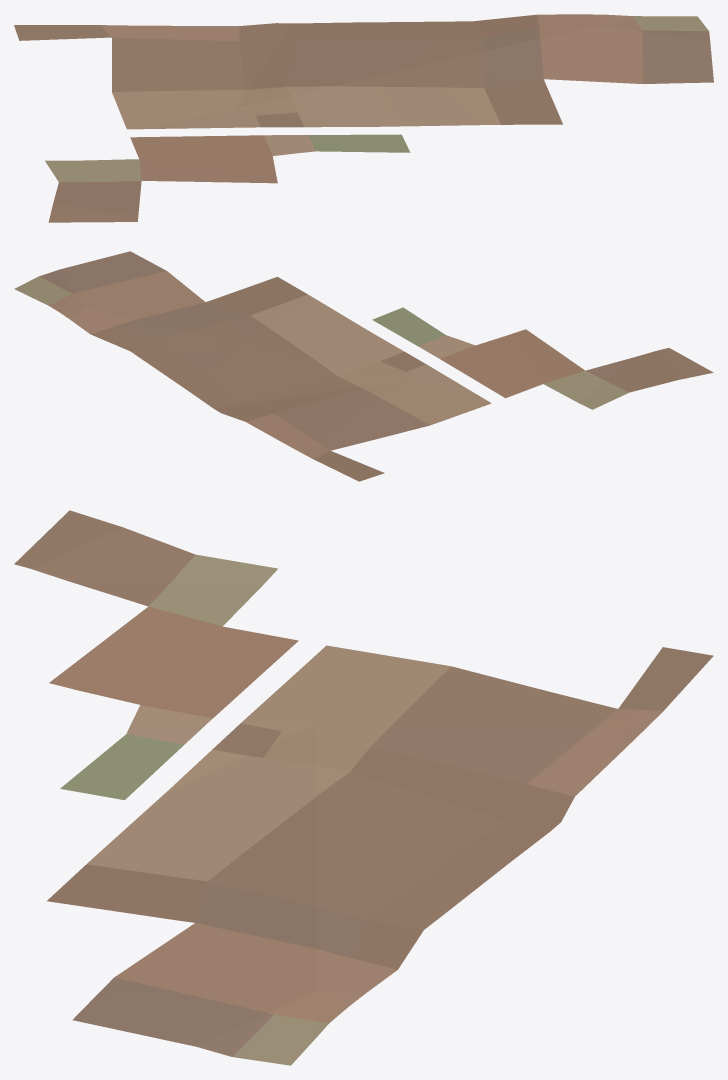
File: farm_13_12_soil.glb
The picture shows the model from 3 angles, top to bottom: view 1: azimuth 30°, elevation 25°; view 2: azimuth 150°, elevation 25°; view 3: azimuth 270°, elevation 25°; orthographic projection. The views are drawn at different scales.
Parts seen in each view (by area): view 1: geometry_0; view 2: geometry_0; view 3: geometry_0.
Part boxes in pixels (x1=…): geometry_0: x1=14, y1=14, x2=713, y2=222; geometry_0: x1=14, y1=251, x2=713, y2=481; geometry_0: x1=14, y1=510, x2=713, y2=1065.
Size of the model in its own units: 320 by 10.87 by 183.
